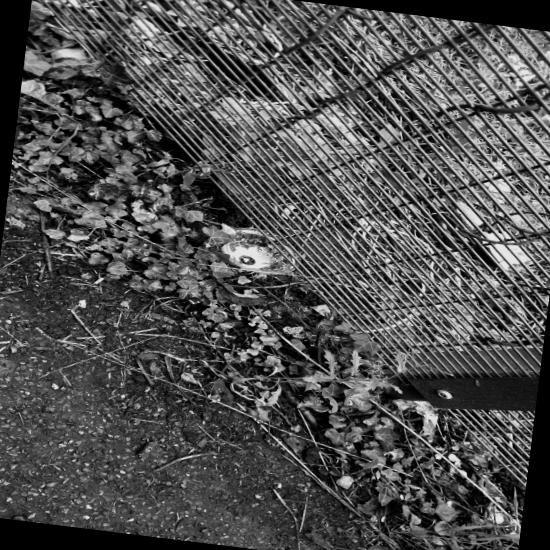Other plastic: (135, 0, 172, 22)
Plastic lid: (222, 228, 300, 275)
